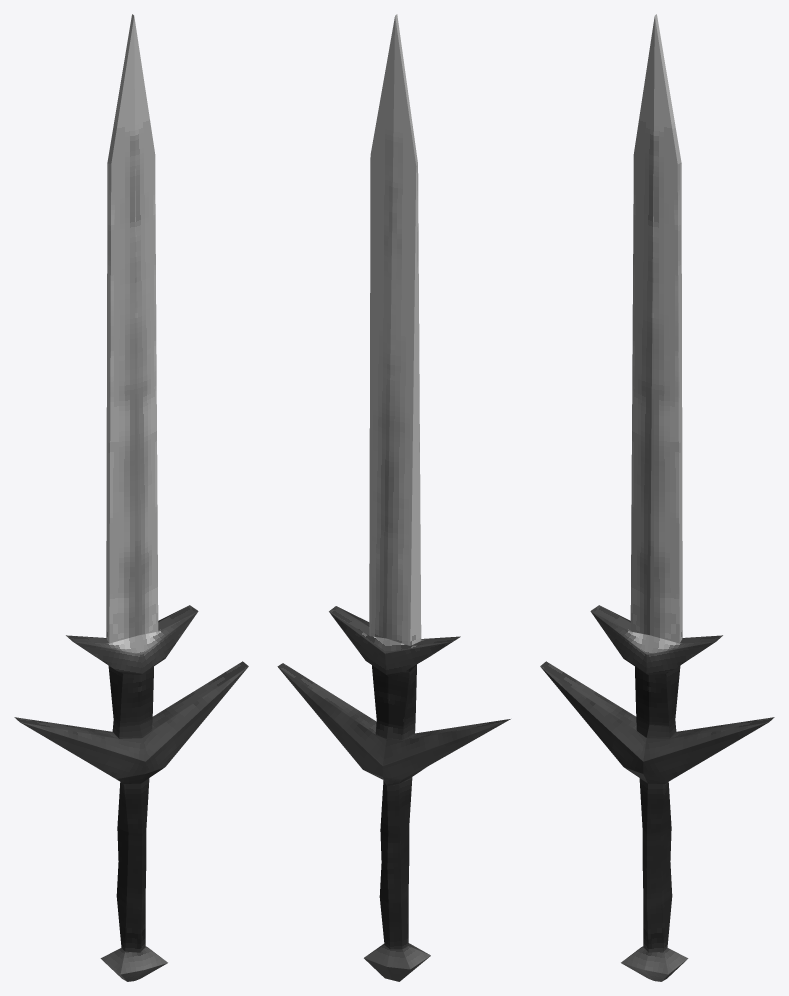
File: sword.gltf
3 renders of one model, left to right at view 1: azimuth 30°, elevation 25°; view 2: azimuth 150°, elevation 25°; view 3: azimuth 330°, elevation 25°, orthographic.
Parts seen in each view (by area): view 1: sword; view 2: sword; view 3: sword.
Boxes of the visible parts, x1,y1,x2,y2 form: sword: (14, 14, 248, 981); sword: (277, 14, 510, 981); sword: (540, 14, 774, 981).
Size of the model in its own units: 10.2 by 41.06 by 2.
1 material, 1 textured.
